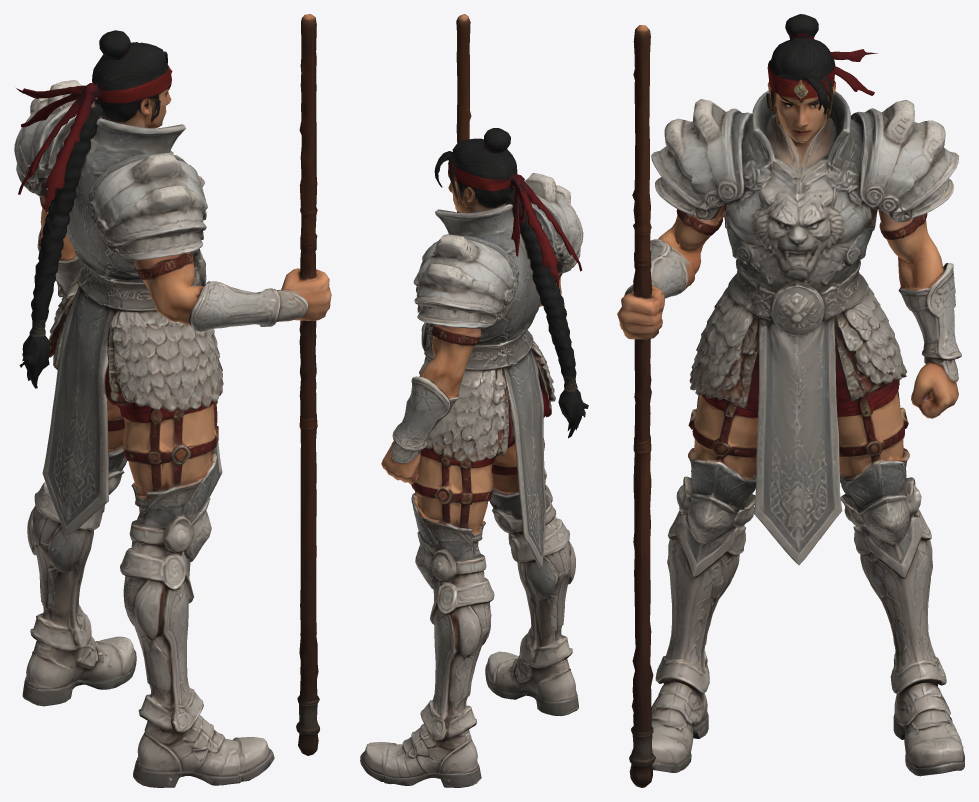
The model's file is vanguardalt_T8-tripo.glb.
3 renders of one model, left to right at view 1: azimuth 30°, elevation 25°; view 2: azimuth 150°, elevation 25°; view 3: azimuth 270°, elevation 25°, orthographic. The views are drawn at different scales.
Visible parts, largest first — view 1: tripo_node_830f3bdf-899a-4e91-955c-d1d0026c5e40; view 2: tripo_node_830f3bdf-899a-4e91-955c-d1d0026c5e40; view 3: tripo_node_830f3bdf-899a-4e91-955c-d1d0026c5e40.
Part boxes in pixels (x1,y1,x2,y2): tripo_node_830f3bdf-899a-4e91-955c-d1d0026c5e40: (14,14,331,787); tripo_node_830f3bdf-899a-4e91-955c-d1d0026c5e40: (360,14,588,787); tripo_node_830f3bdf-899a-4e91-955c-d1d0026c5e40: (617,14,964,787).
Size of the model in its own units: 0.3252 by 1 by 0.407.
Materials: 1 (1 with a texture image).
